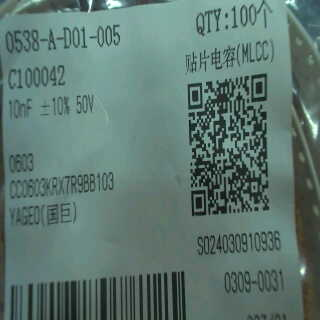10nF: (5, 95, 35, 130)
